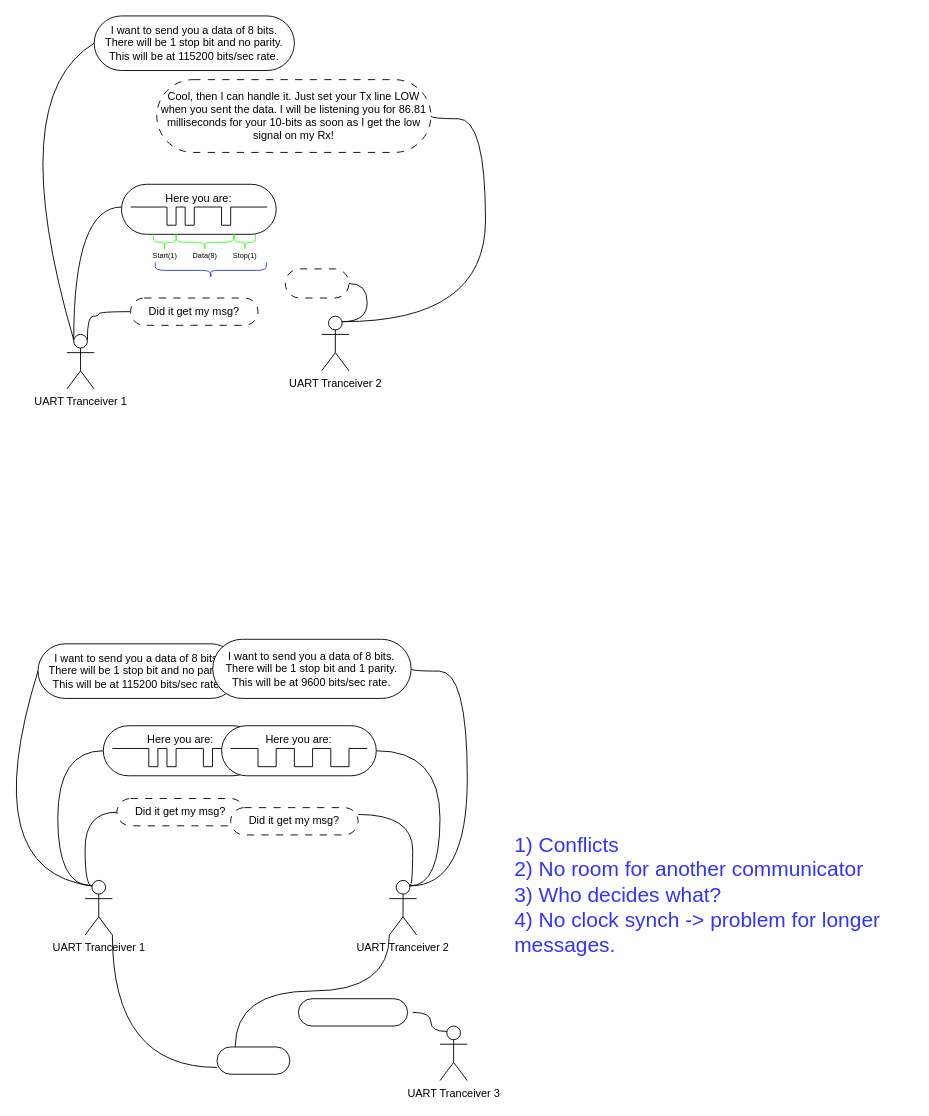
Some shapes in this 929 by 1116 pixel diagram are drawn without their labels. Here are the shapes that lost their labels. From the top down, the centre of each, then its label:
(210,270): 86.81 ms
(316,283): Got it!
(352,1012): Hi! Take me in!
(253,1060): Naah..
